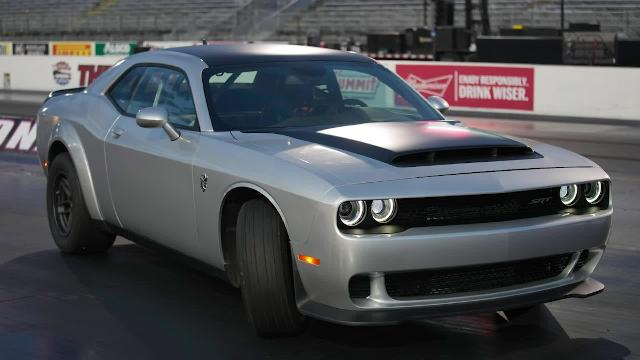dodge: (35, 43, 613, 335)
